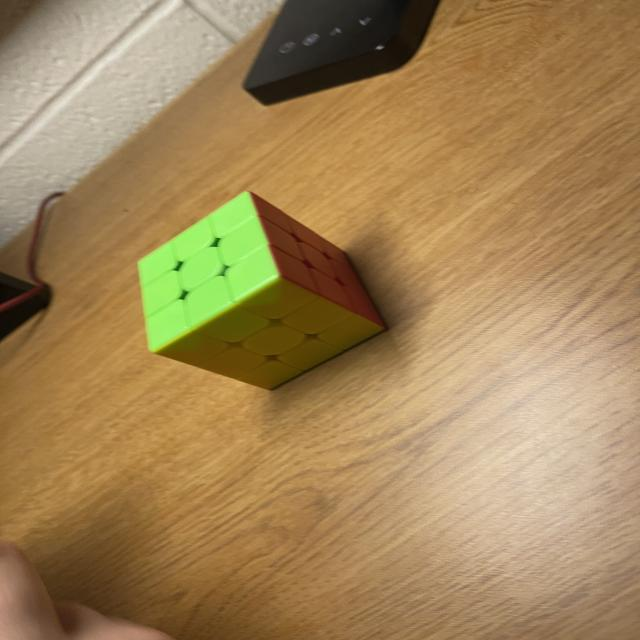Rubiks Cube: (138, 191, 386, 392)
